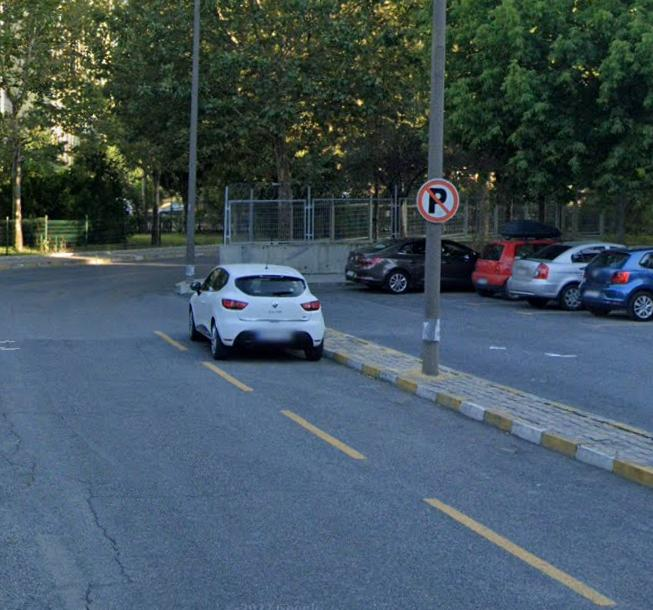nopark: (417, 179, 460, 224)
